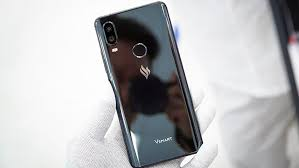vsmart: (93, 1, 203, 168)
